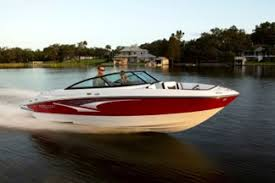boat: (1, 69, 242, 136)
